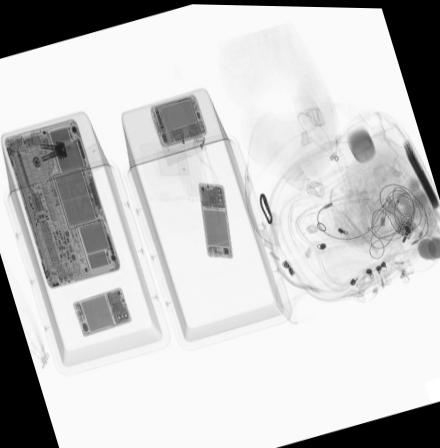Powerbank: (147, 92, 206, 148)
